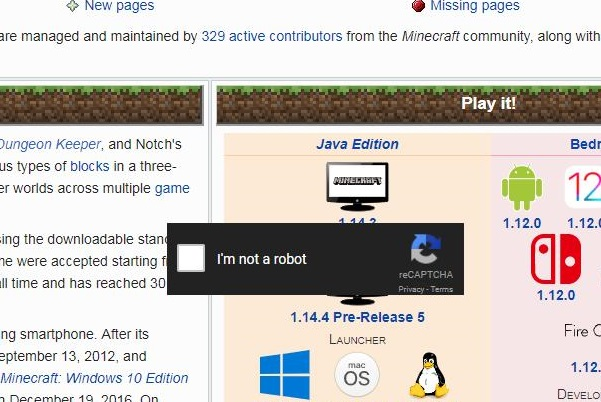captcha: (176, 244, 307, 273)
